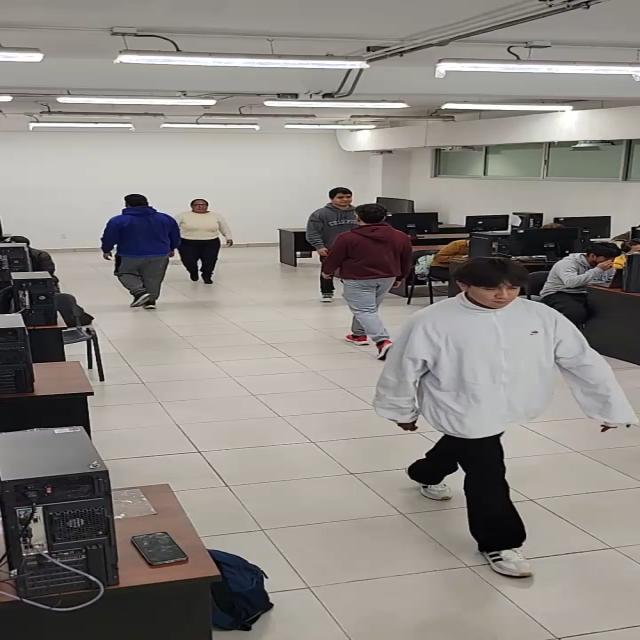Persona: (374, 252, 634, 550), (102, 191, 172, 311), (345, 203, 404, 338), (184, 198, 234, 286), (312, 183, 364, 252)
